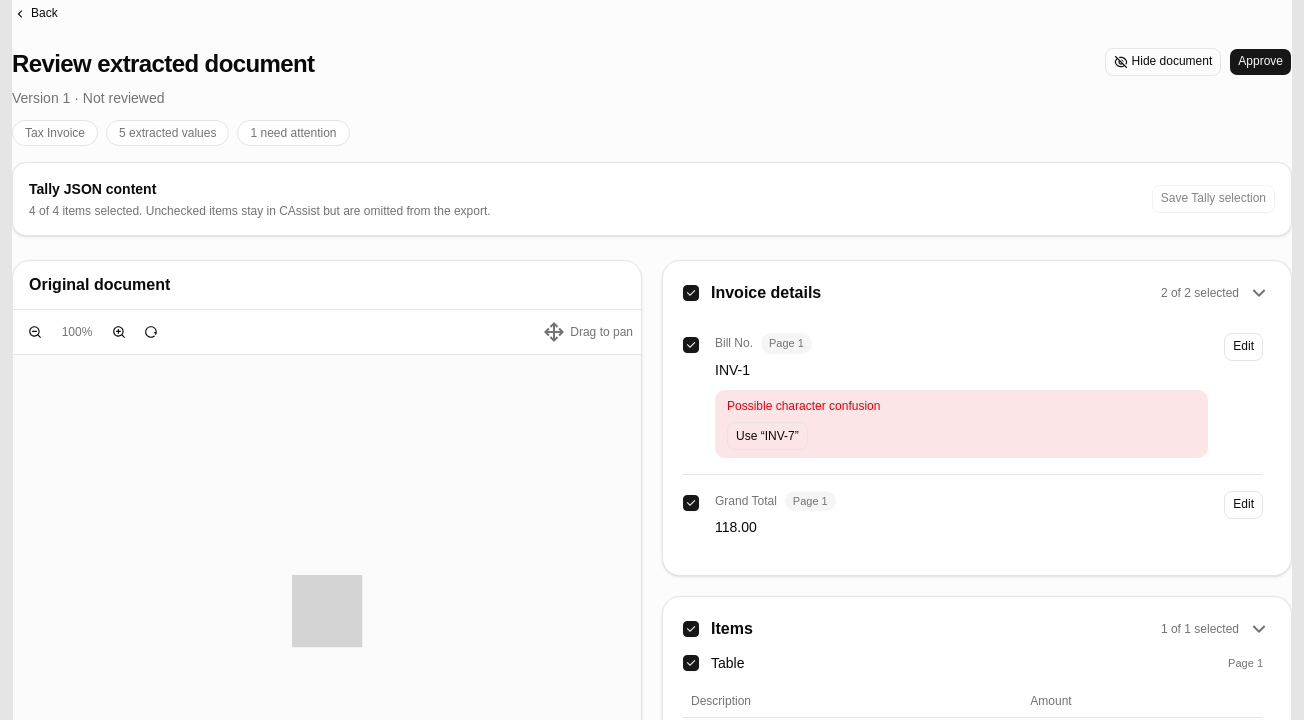
ReviewPage › saves an append-only correction by stable target id
Click the button "Use “INV-7”": coordinates (767, 436) [727, 422, 808, 450]
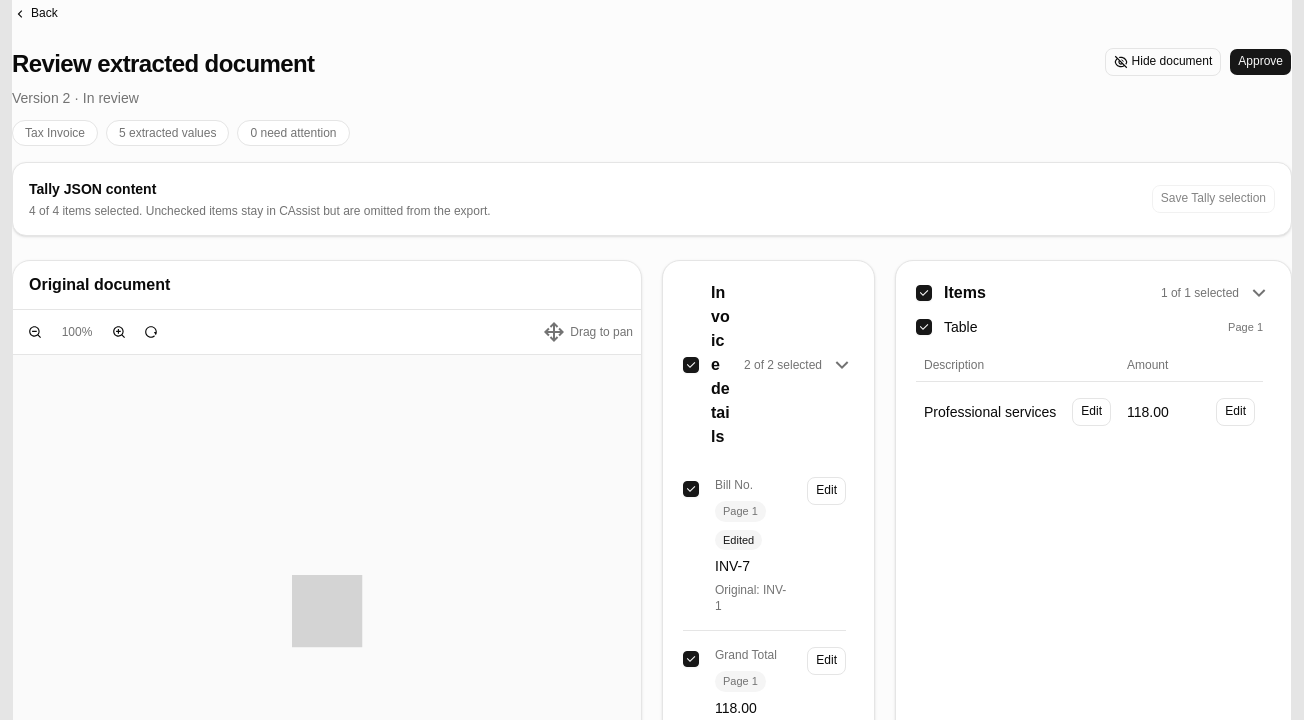
Now the text "Version 2 · In review" is shown, box [12, 90, 139, 106]
Now the text "Edited" is shown, box [715, 530, 762, 550]
Now the text "Original:" is shown, box [715, 583, 760, 597]
